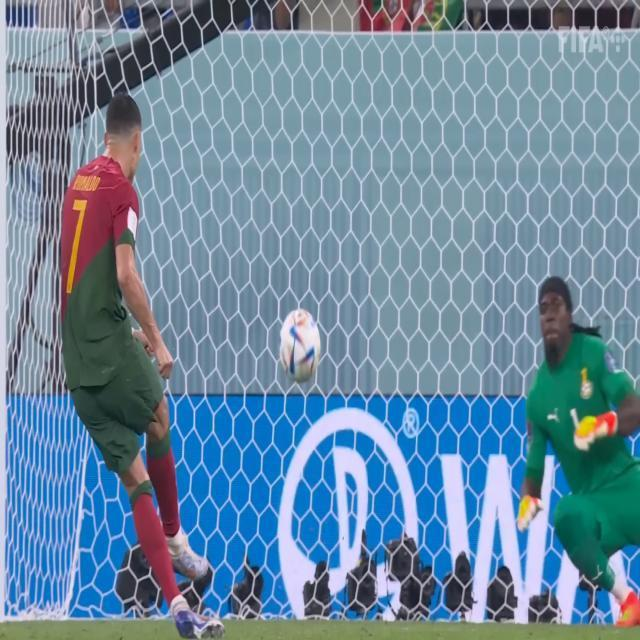football: (276, 299, 333, 389)
